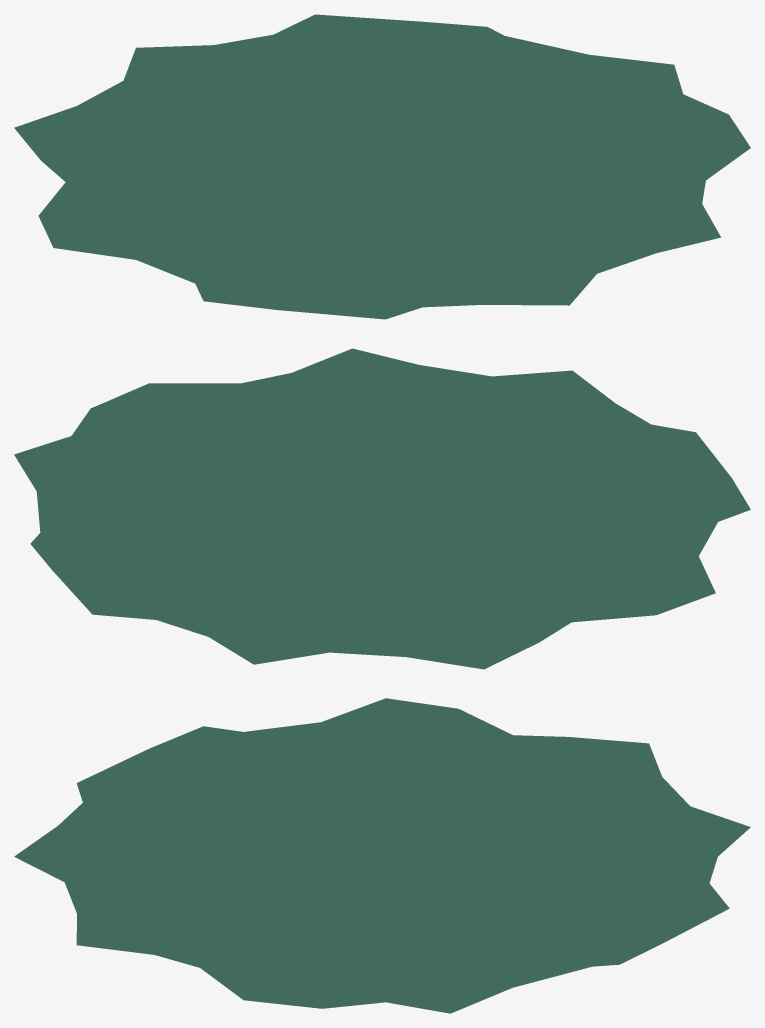
Rendered from SM_Puddle.fbx.
3 renders of one model, top to bottom at view 1: azimuth 30°, elevation 25°; view 2: azimuth 150°, elevation 25°; view 3: azimuth 270°, elevation 25°, orthographic. The views are drawn at different scales.
Visible parts, largest first — view 1: SM_Puddle; view 2: SM_Puddle; view 3: SM_Puddle.
Part boxes in pixels (<box>): SM_Puddle: <box>14,14,750,319</box>; SM_Puddle: <box>14,348,750,669</box>; SM_Puddle: <box>14,698,750,1013</box>.
Size of the model in its own units: 2.17 by 2.14 by 0.
